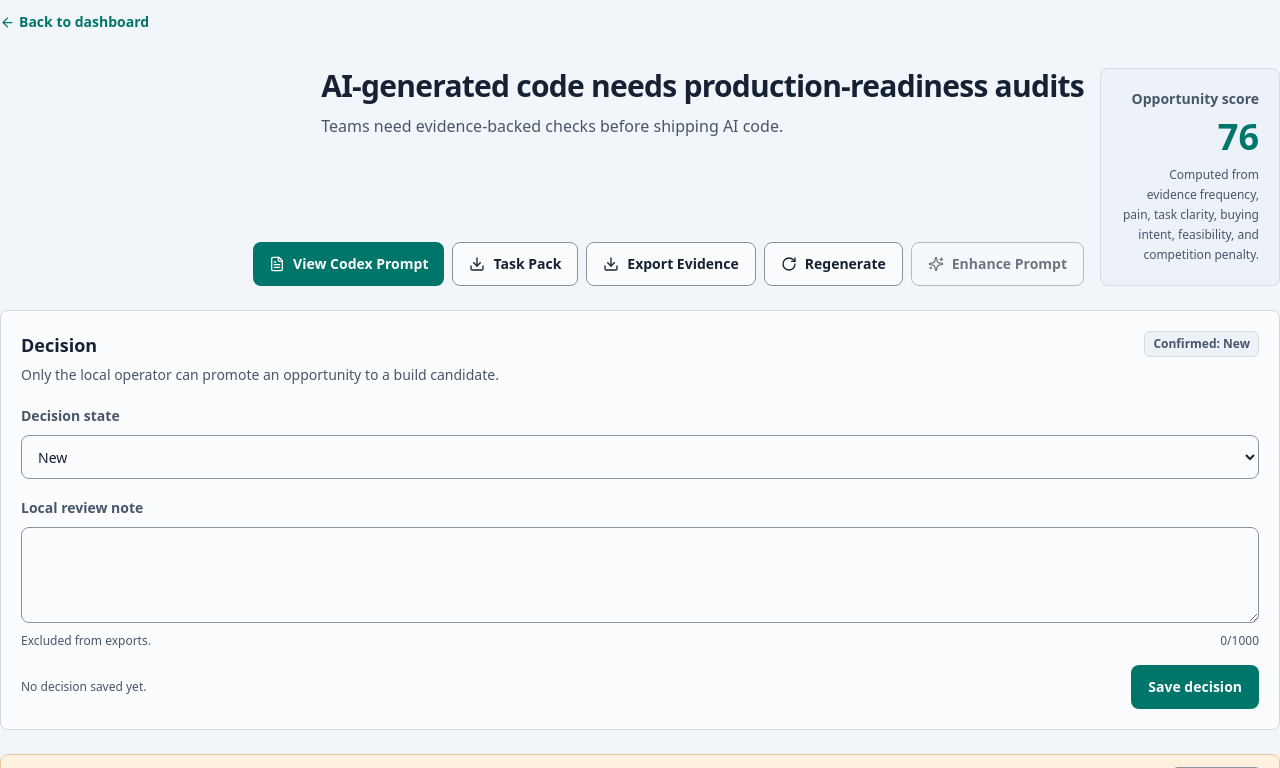
Test: OpportunityDetail › keeps save success through the real refetch and clears it on a new draft
The image size is (1280, 768).
Step 1. Select "Promising" in the dropdown labelled "Decision state" → (640, 457), box [21,435,1259,479]
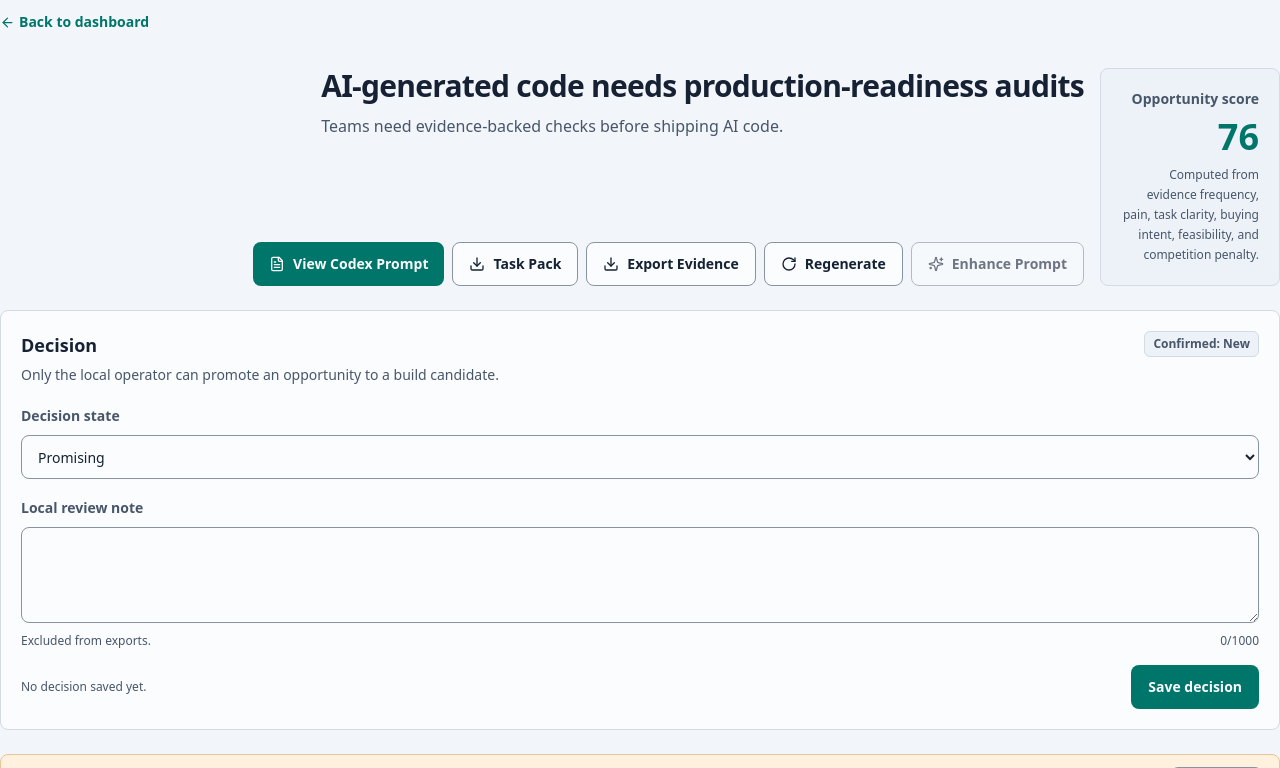
Step 2. Type "  Server-normalized note.  " into the text box labelled "Local review note" → (640, 575), box [21,527,1259,623]
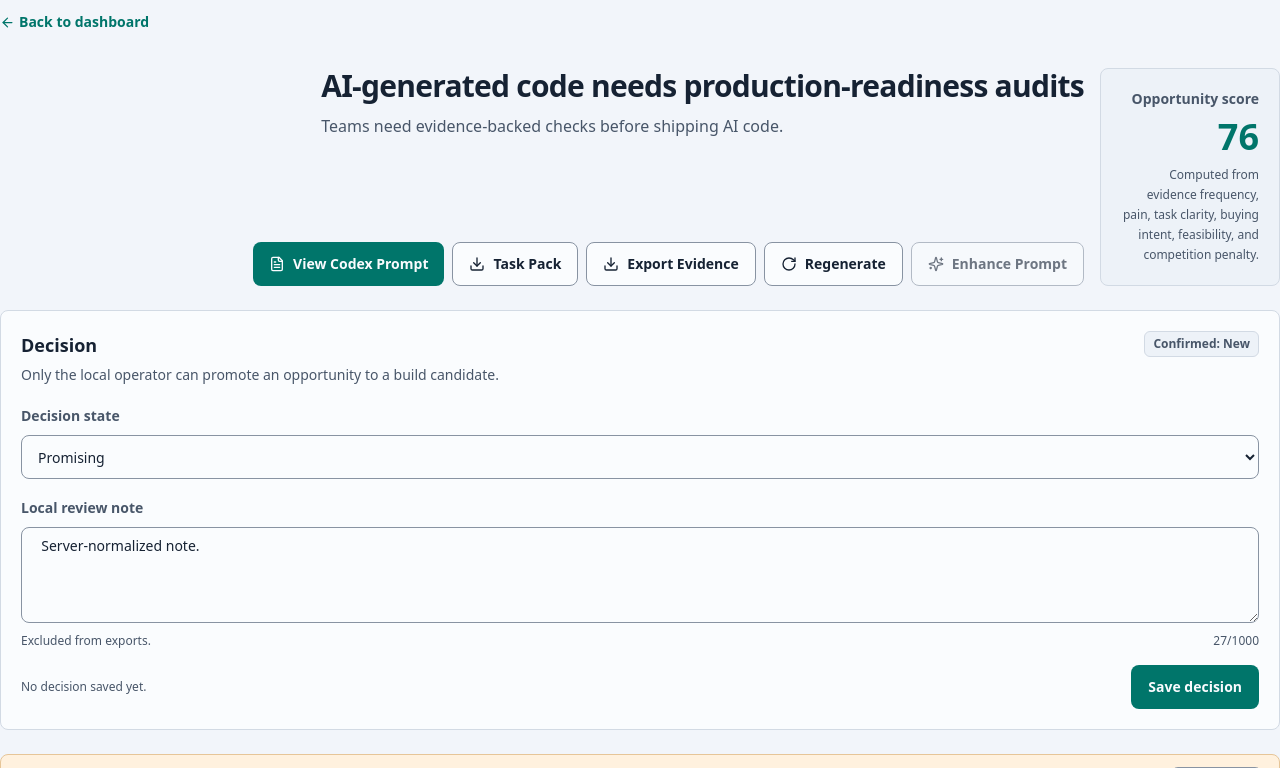
Expected: the text "Confirmed: New" is shown, [1144,331,1259,357]
Step 3. Click the button "Save decision" → (1195, 687), box [1131,665,1259,709]
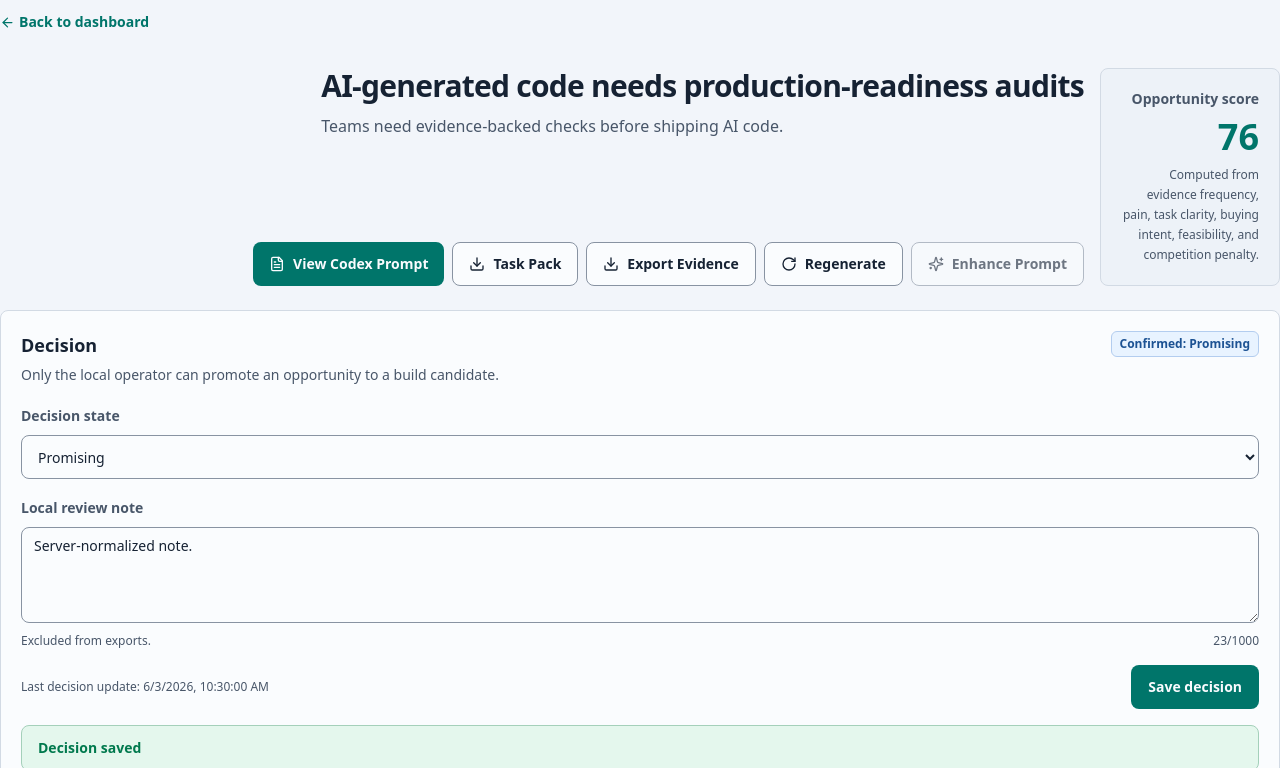
Expected: the text "Decision saved" is shown, [38,738,141,758]
Now the text "Confirmed: Promising" is shown, box [1110,331,1259,357]
Step 4. Select "Rejected" in the dropdown labelled "Decision state" → (640, 457), box [21,435,1259,479]
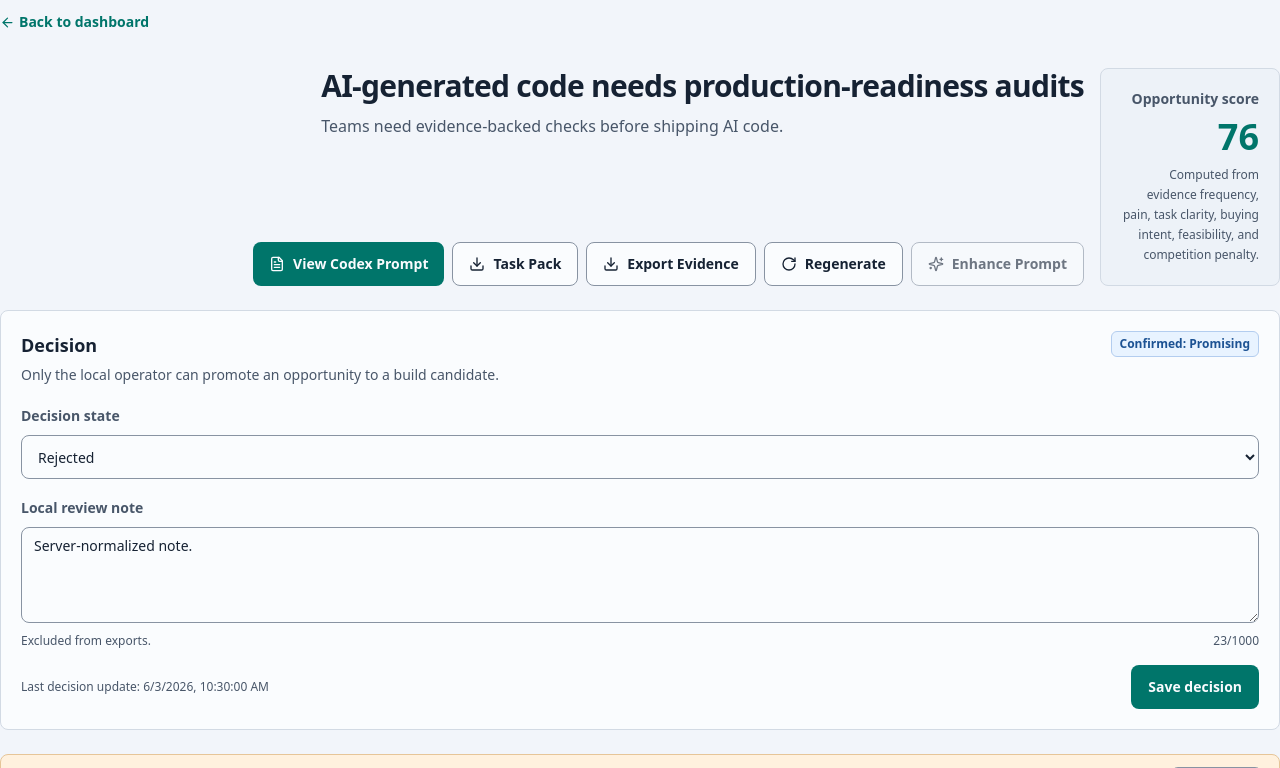
Now the text "Confirmed: Promising" is shown, box [1110,331,1259,357]
Now the text "Decision saved" is gone
